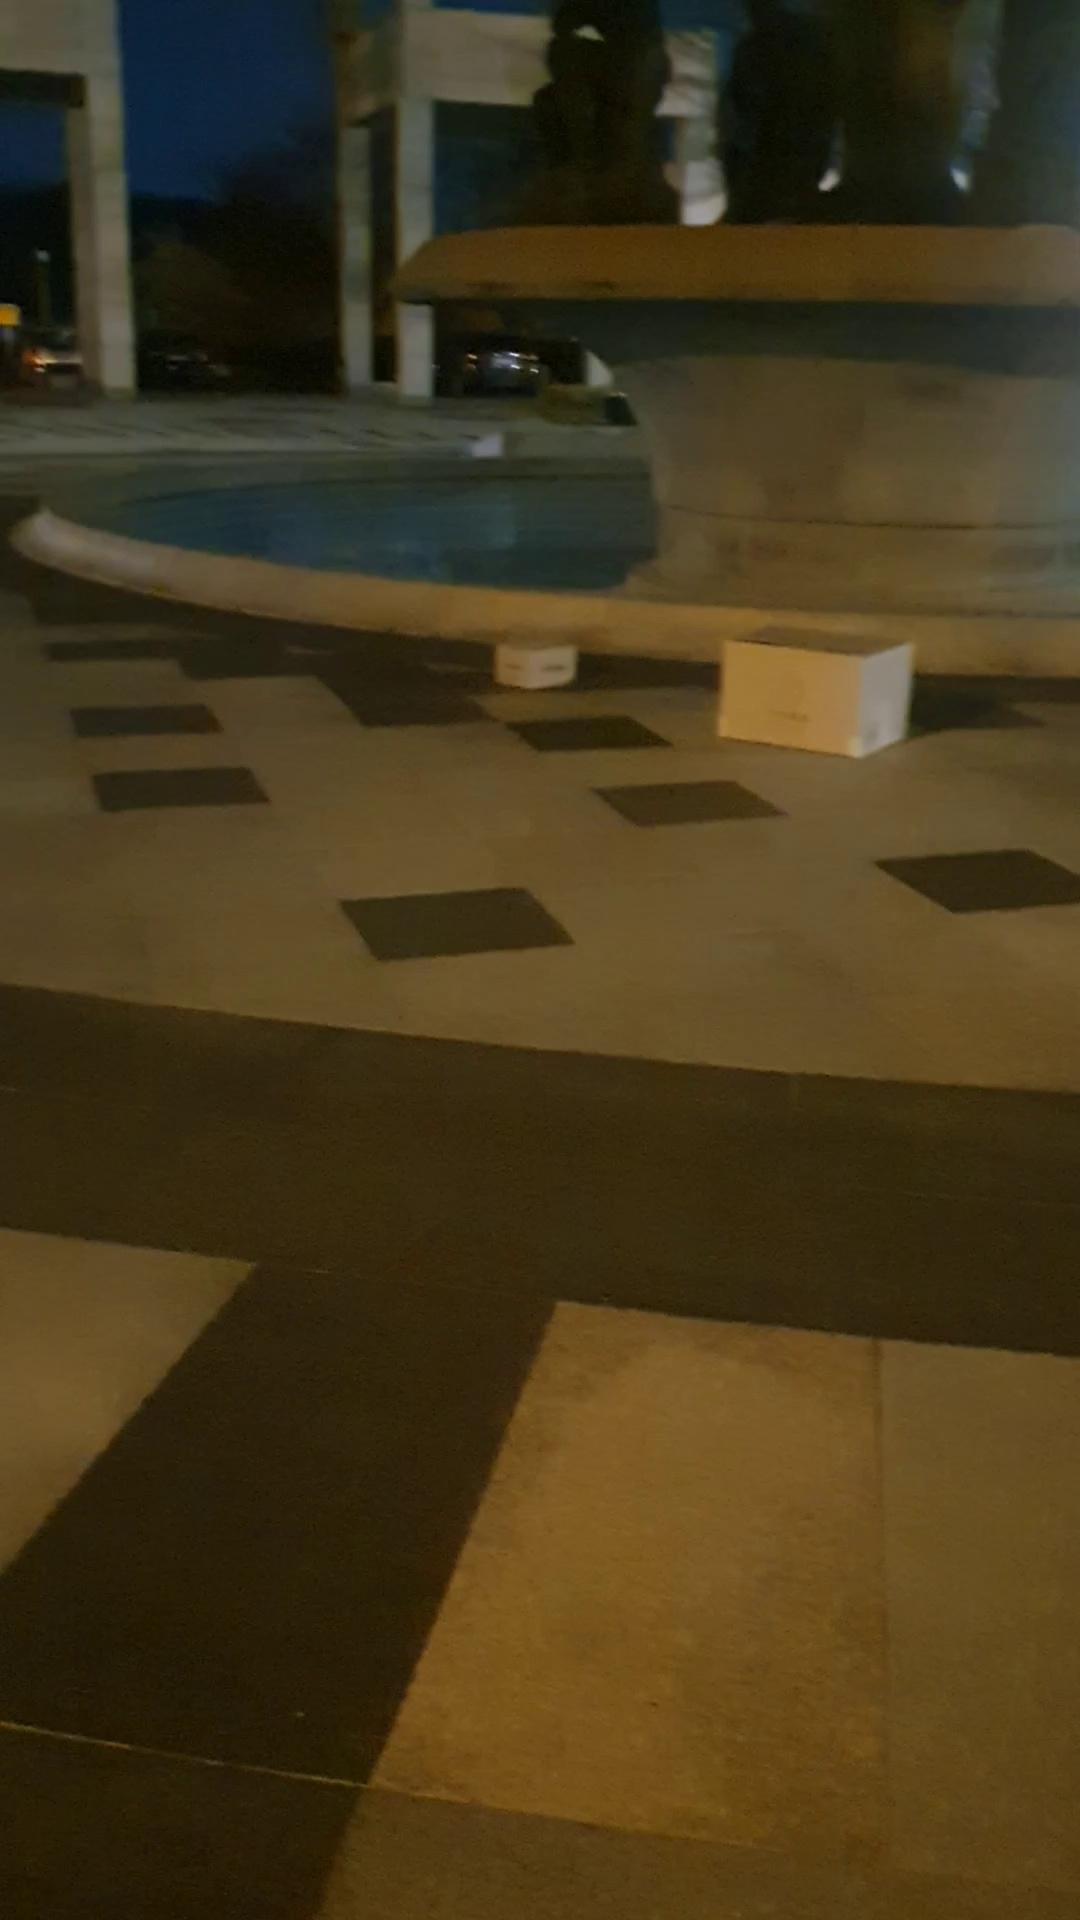Box: (716, 618, 916, 760), (487, 625, 583, 698)
